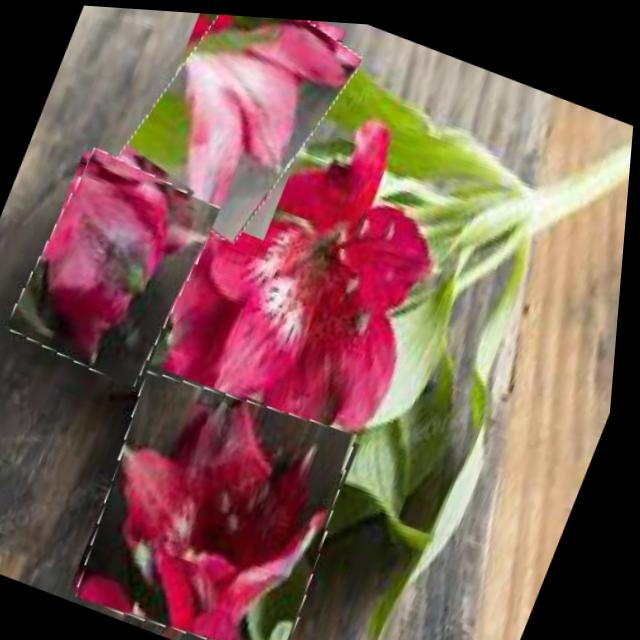Flower: (119, 56, 488, 480), (71, 356, 378, 640), (116, 7, 362, 252), (9, 141, 226, 391)
